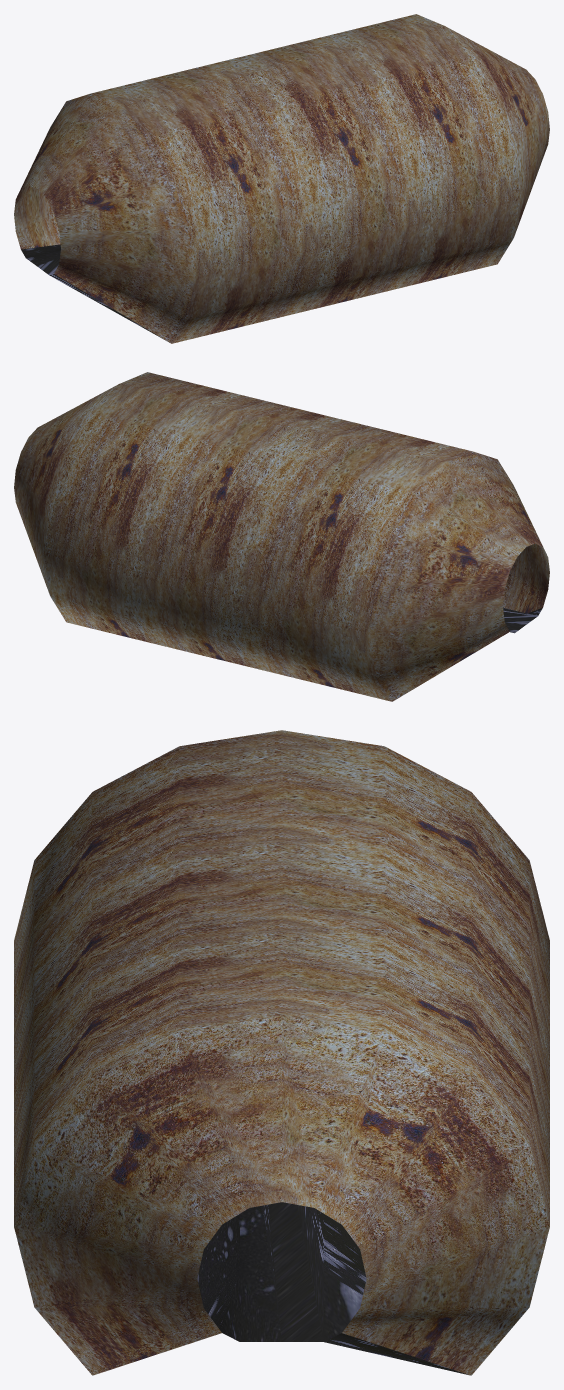
Rendered from can03.fbx.
3 renders of one model, top to bottom at view 1: azimuth 30°, elevation 25°; view 2: azimuth 150°, elevation 25°; view 3: azimuth 270°, elevation 25°, orthographic. The views are drawn at different scales.
Parts seen in each view (by area): view 1: pPipe2; view 2: pPipe2; view 3: pPipe2.
Boxes of the visible parts, <box> form: pPipe2: <box>14,14,549,343</box>; pPipe2: <box>14,372,549,701</box>; pPipe2: <box>14,730,549,1375</box>.
Bounding box in the file's own units: 18 × 7.03 × 9.5.
